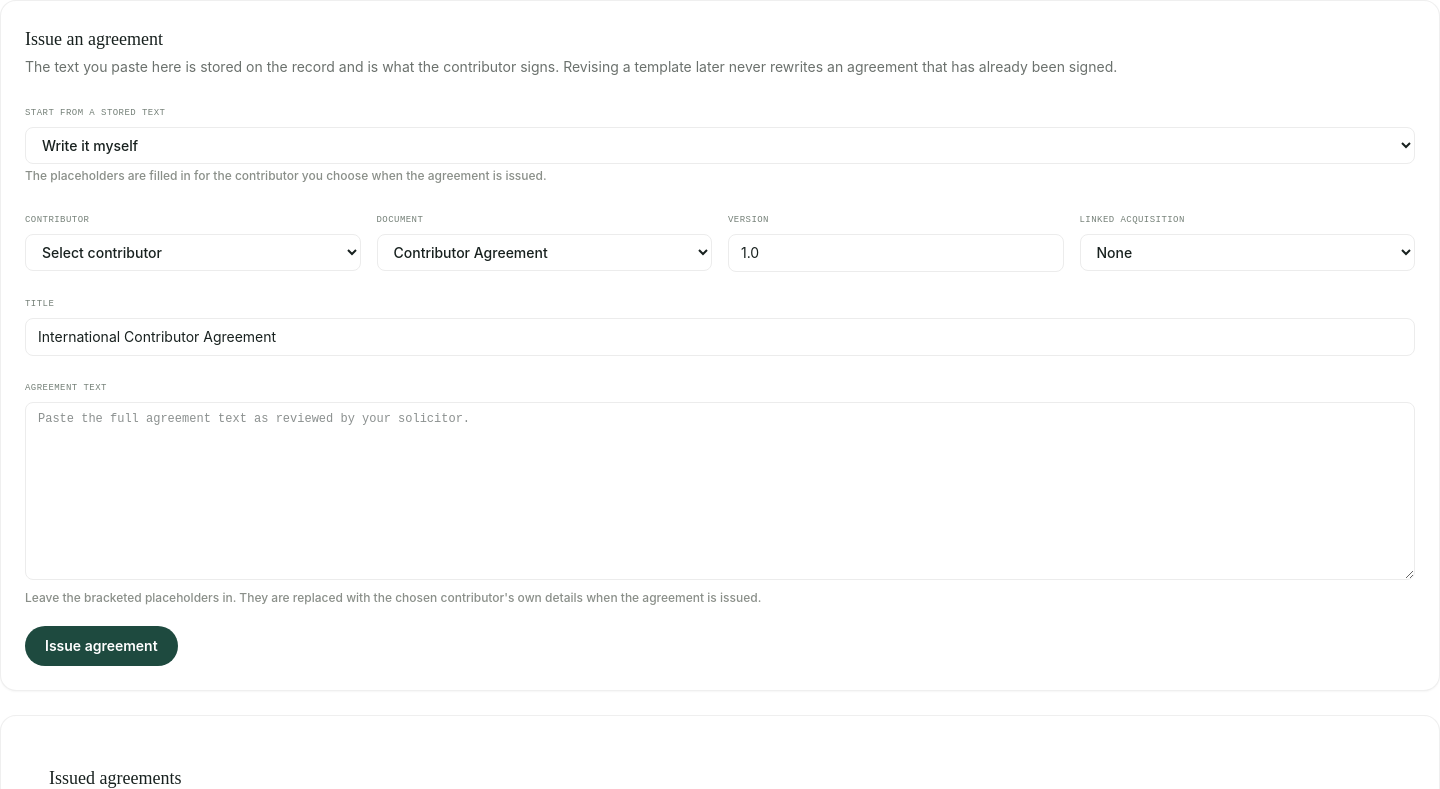
Test: AgreementsPanel › shows what the chosen contributor will actually receive
This screenshot has width=1440, height=789.
expect the text "Start from a stored text" is shown: met, box x1=25 y1=108 x2=165 y2=118
Select "International Contributor Agreement · v1.0 (current)" in the 1st dropdown at (720, 146), box x1=25 y1=127 x2=1415 y2=164
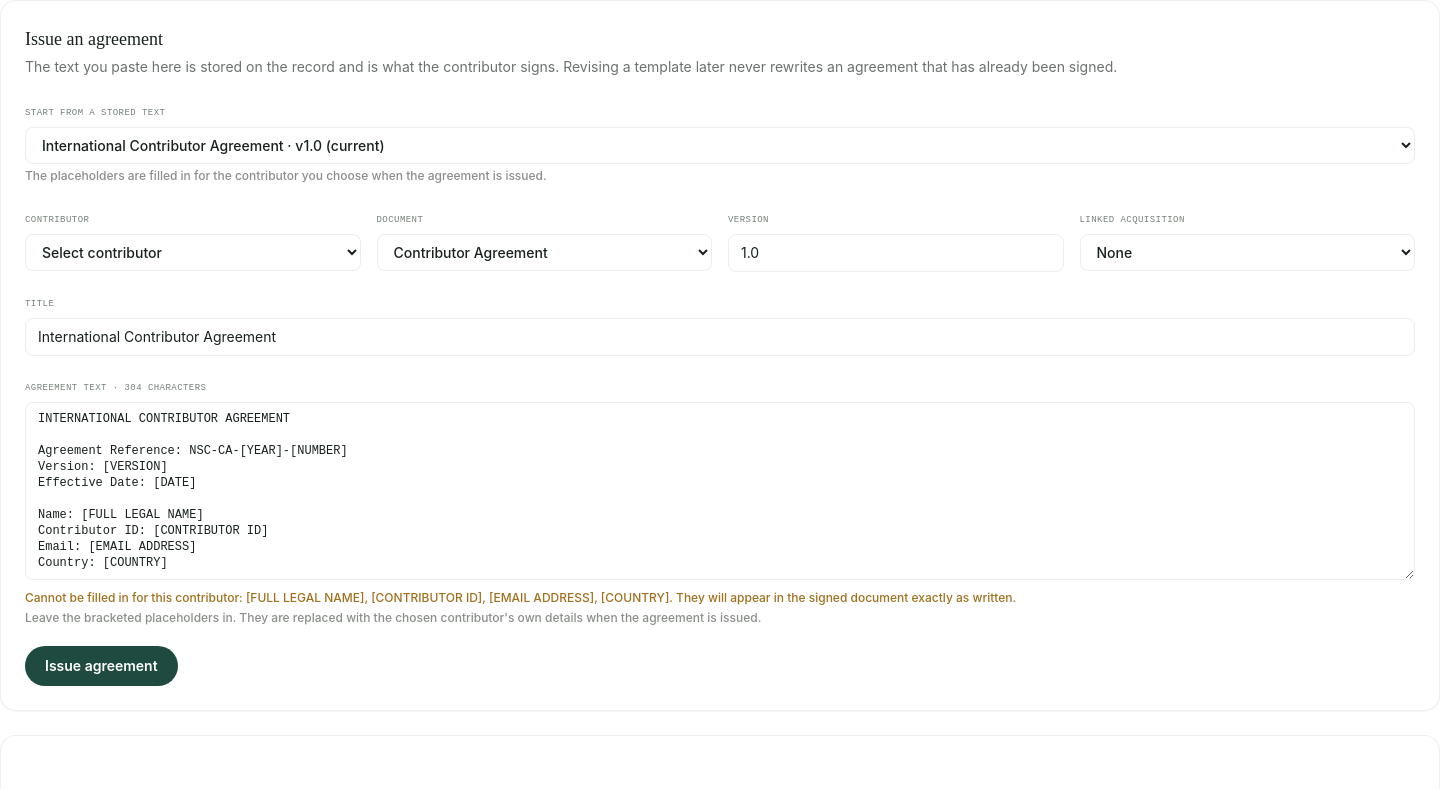
Select "Ernie Blarinckx" in the dropdown labelled "Contributor" at (193, 252), box x1=25 y1=234 x2=360 y2=271
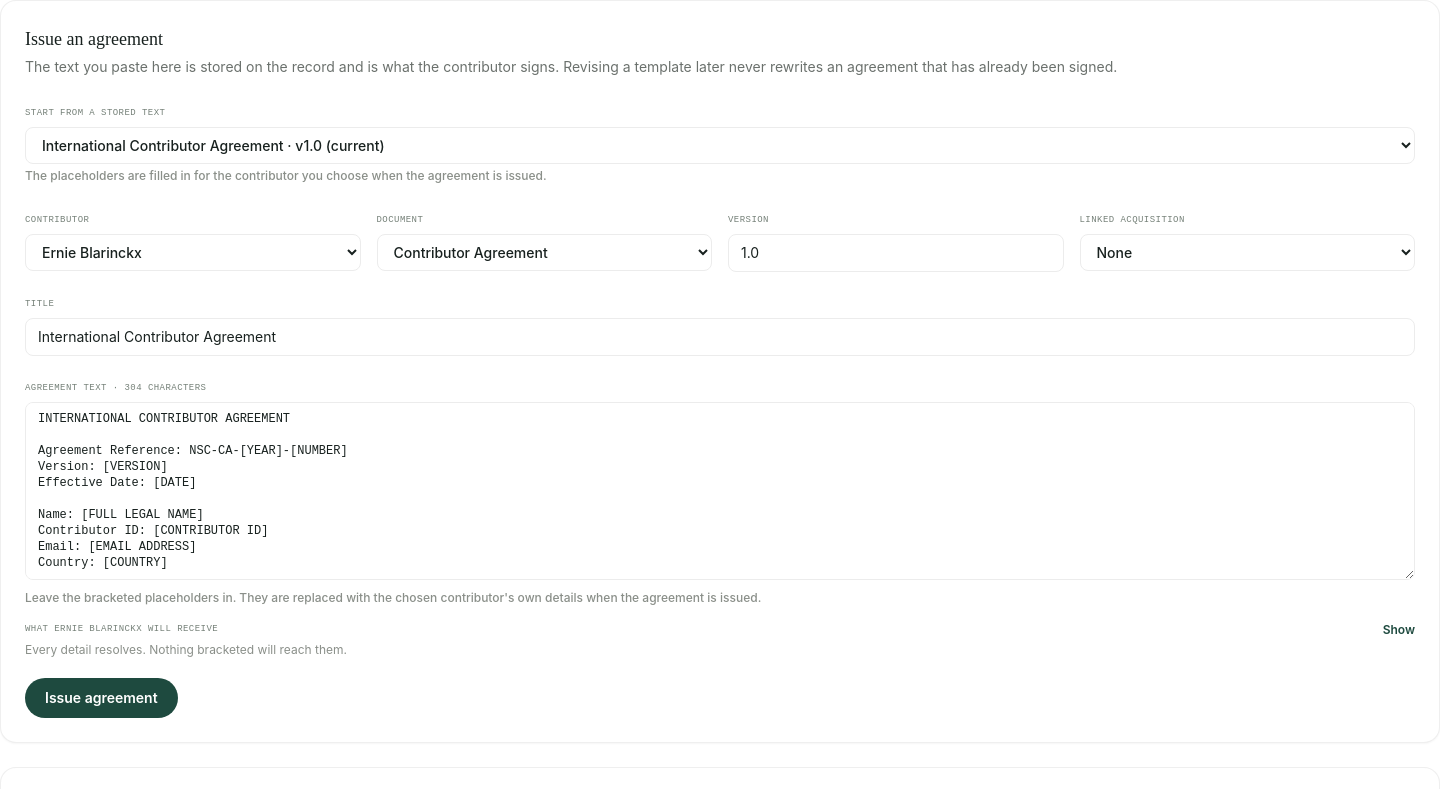
Click the button "Show".
click(1399, 630)  # box x1=1383 y1=622 x2=1415 y2=638
(page scrolled)
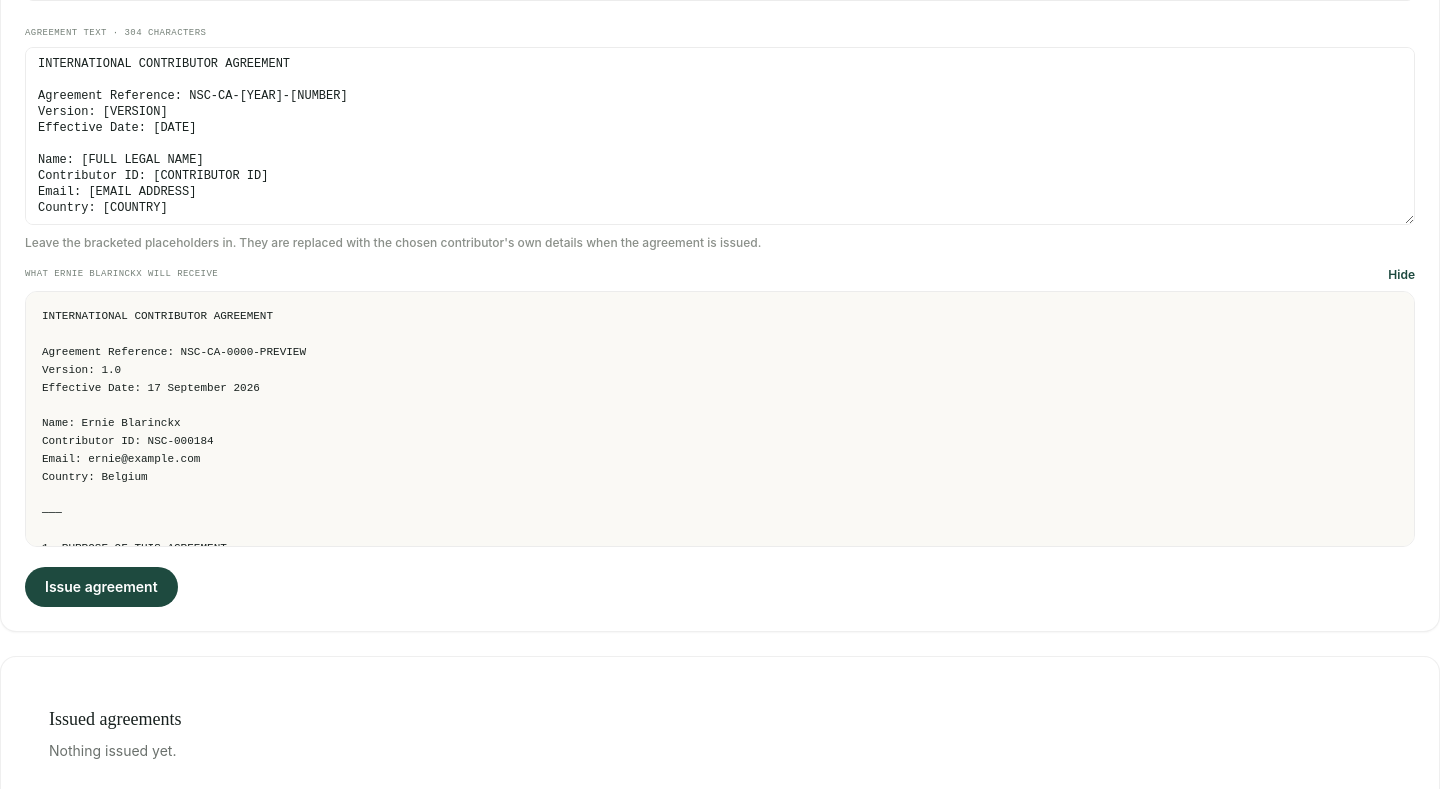
expect the text "Name: Ernie Blarinckx" does not show "[FULL LEGAL NAME]": met, box x1=42 y1=310 x2=339 y2=590
expect the text "Name: Ernie Blarinckx" shows "Contributor ID: NSC-000184": met, box x1=42 y1=310 x2=339 y2=590
expect the text "Name: Ernie Blarinckx" shows "Country: Belgium": met, box x1=42 y1=310 x2=339 y2=590
